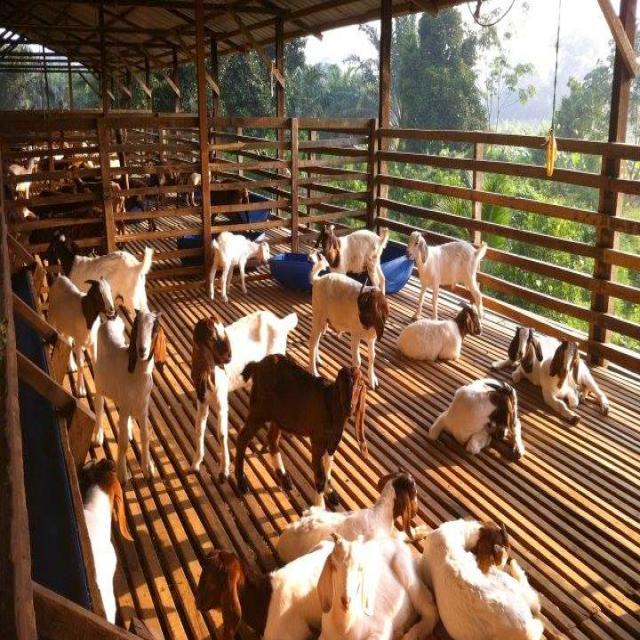Goat: (233, 352, 368, 508), (189, 308, 298, 481), (420, 517, 544, 639), (275, 468, 418, 564), (306, 249, 388, 390), (78, 457, 134, 625), (428, 375, 525, 459), (405, 230, 487, 321), (315, 221, 389, 295), (396, 303, 481, 362), (206, 230, 271, 302)
